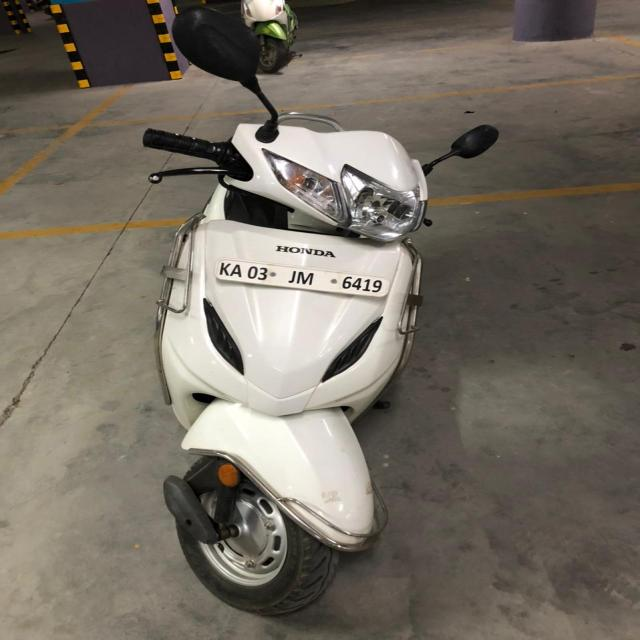number plate: (214, 258, 390, 298)
